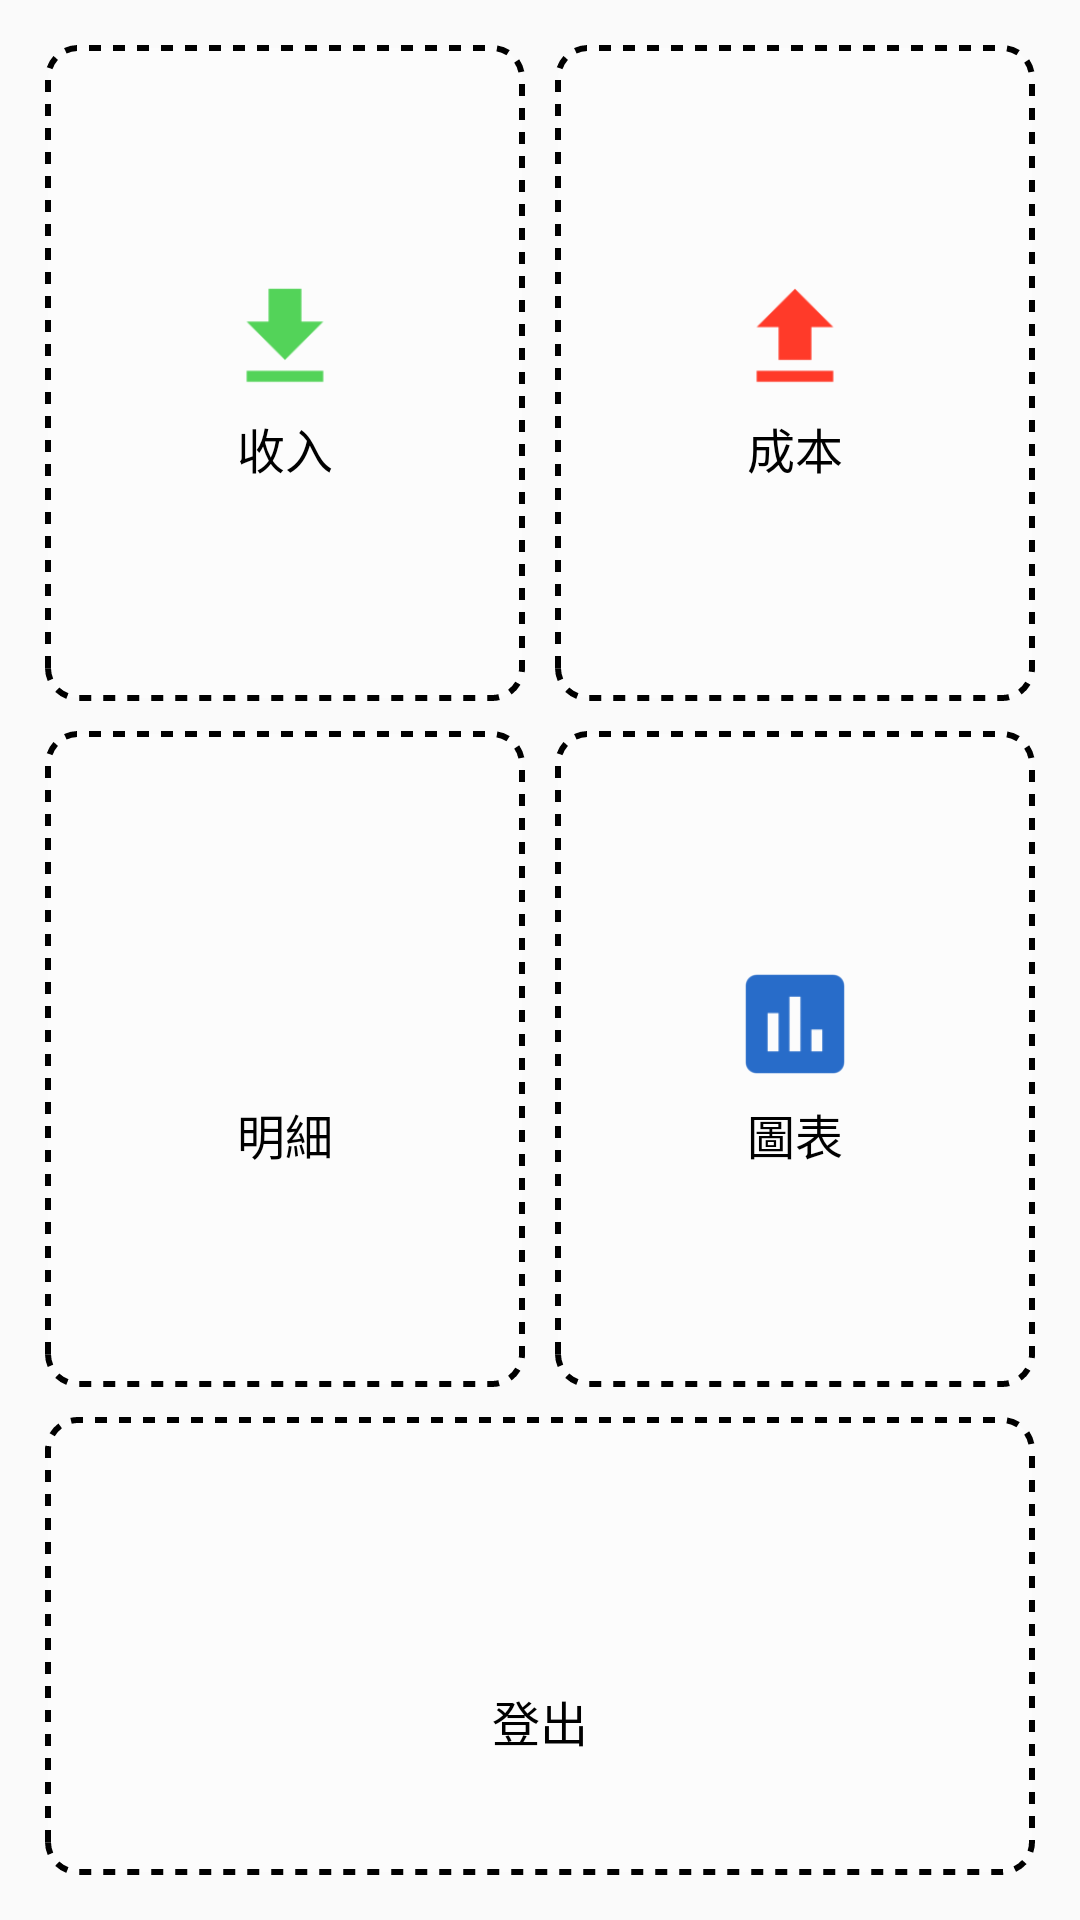

Where to tap for icons on this 1080 x 1920 app screen, as (x=x, y=y):
cost: (x=795, y=335)
earn: (x=285, y=335)
